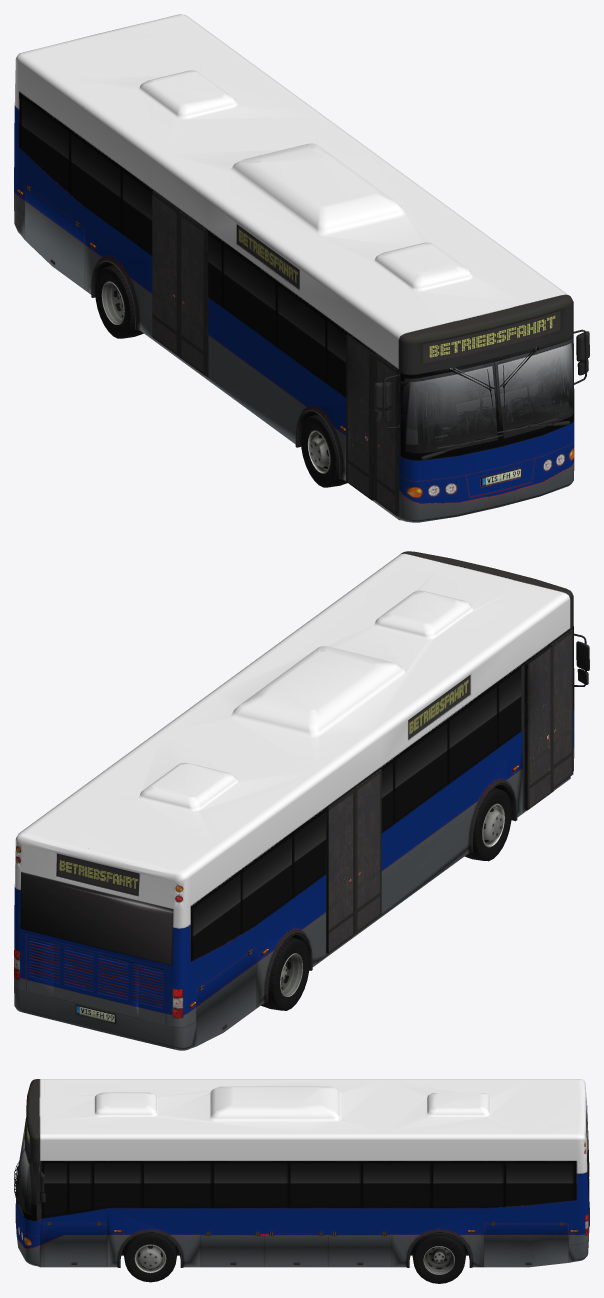
File: bus 1.fbx
3 renders of one model, top to bottom at view 1: azimuth 30°, elevation 25°; view 2: azimuth 150°, elevation 25°; view 3: azimuth 270°, elevation 25°, orthographic. The views are drawn at different scales.
Parts seen in each view (by area): view 1: body_main, pCube2, pCube4, pCube1, pCube3, tyre_4, tyre_1; view 2: body_main, pCube4, pCube1, pCube2, pCube3, tyre_4, tyre_1; view 3: body_main, tyre_3, tyre_2.
Boxes of the visible parts, x1,y1,x2,y2 form: body_main: (14, 14, 589, 522); pCube2: (178, 210, 207, 375); pCube4: (346, 335, 374, 500); pCube1: (152, 190, 180, 355); pCube3: (374, 353, 399, 515); tyre_4: (95, 264, 143, 338); tyre_1: (300, 414, 347, 487); body_main: (14, 551, 589, 1050); pCube4: (525, 645, 553, 810); pCube1: (326, 788, 354, 953); pCube2: (352, 768, 381, 934); pCube3: (548, 628, 573, 788); tyre_4: (261, 937, 309, 1010); tyre_1: (464, 787, 511, 861); body_main: (14, 1079, 589, 1267); tyre_3: (412, 1233, 465, 1283); tyre_2: (124, 1233, 177, 1282).
Bounding box in the file's own units: 313 × 309 × 1028.
Materials: 4 (4 with a texture image).
